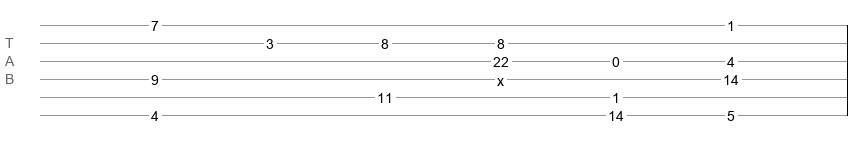0: (612, 54, 620, 64)
1: (612, 90, 620, 100), (727, 18, 735, 28)
11: (377, 90, 393, 100)
14: (608, 108, 624, 118), (723, 72, 739, 82)
22: (493, 54, 509, 64)
3: (266, 36, 274, 46)
4: (151, 108, 159, 118), (727, 54, 735, 64)
5: (727, 108, 735, 118)
7: (151, 18, 159, 28)
8: (381, 36, 389, 46), (497, 36, 505, 46)
9: (151, 72, 159, 82)
x: (497, 73, 504, 81)
